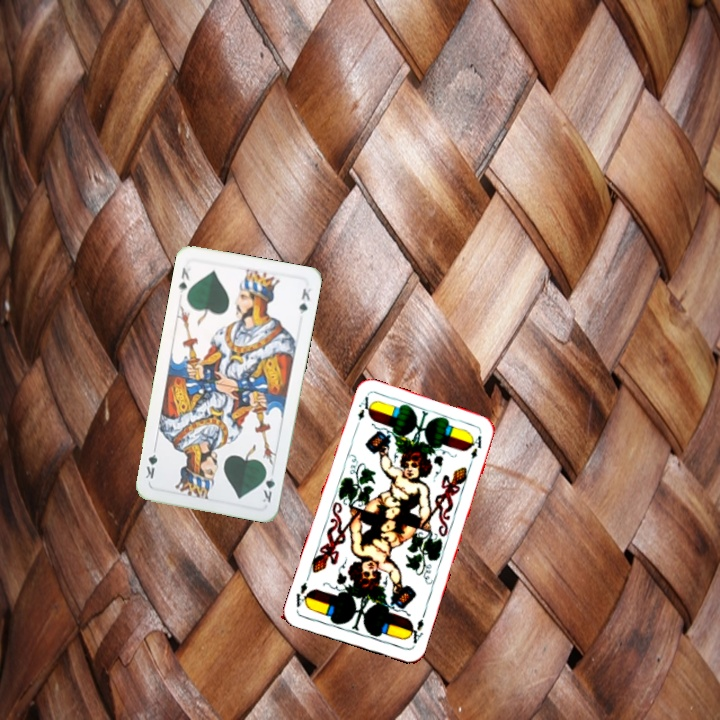EA: (351, 392, 375, 432), (404, 615, 426, 646)
GK: (258, 465, 277, 505), (175, 262, 193, 295)
